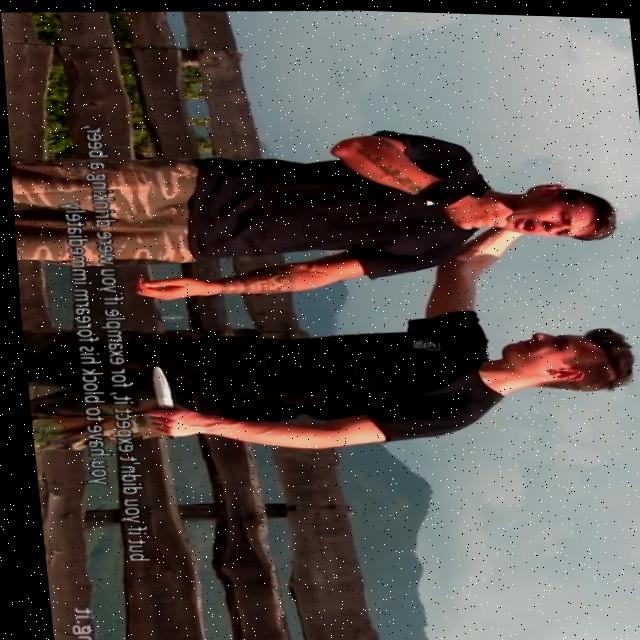knife: (144, 363, 173, 409)
